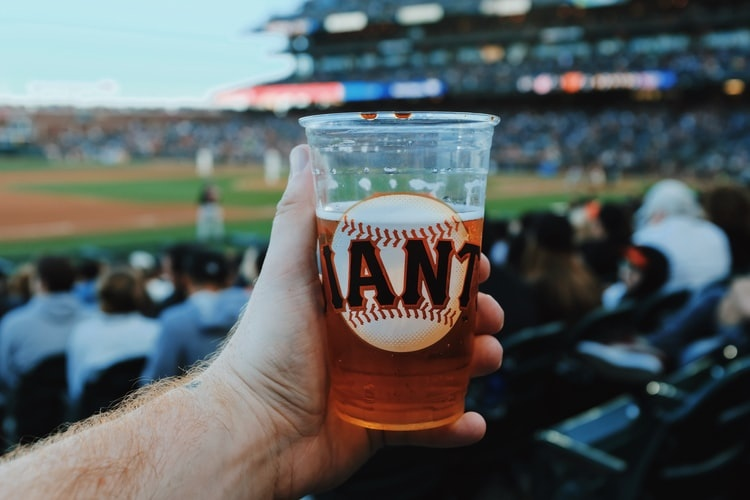whiskey: (311, 103, 498, 439)
